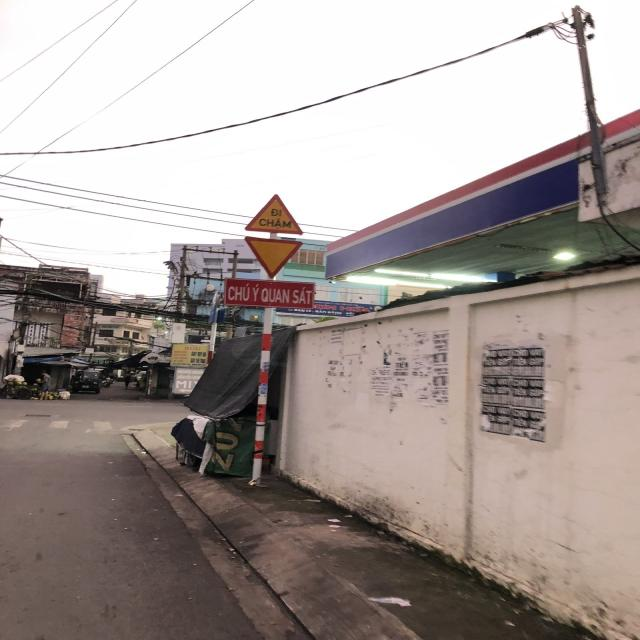Bien bao di cham: (240, 190, 308, 237)
Bien bao giao nhau voi duong uu tien: (242, 233, 303, 280)
